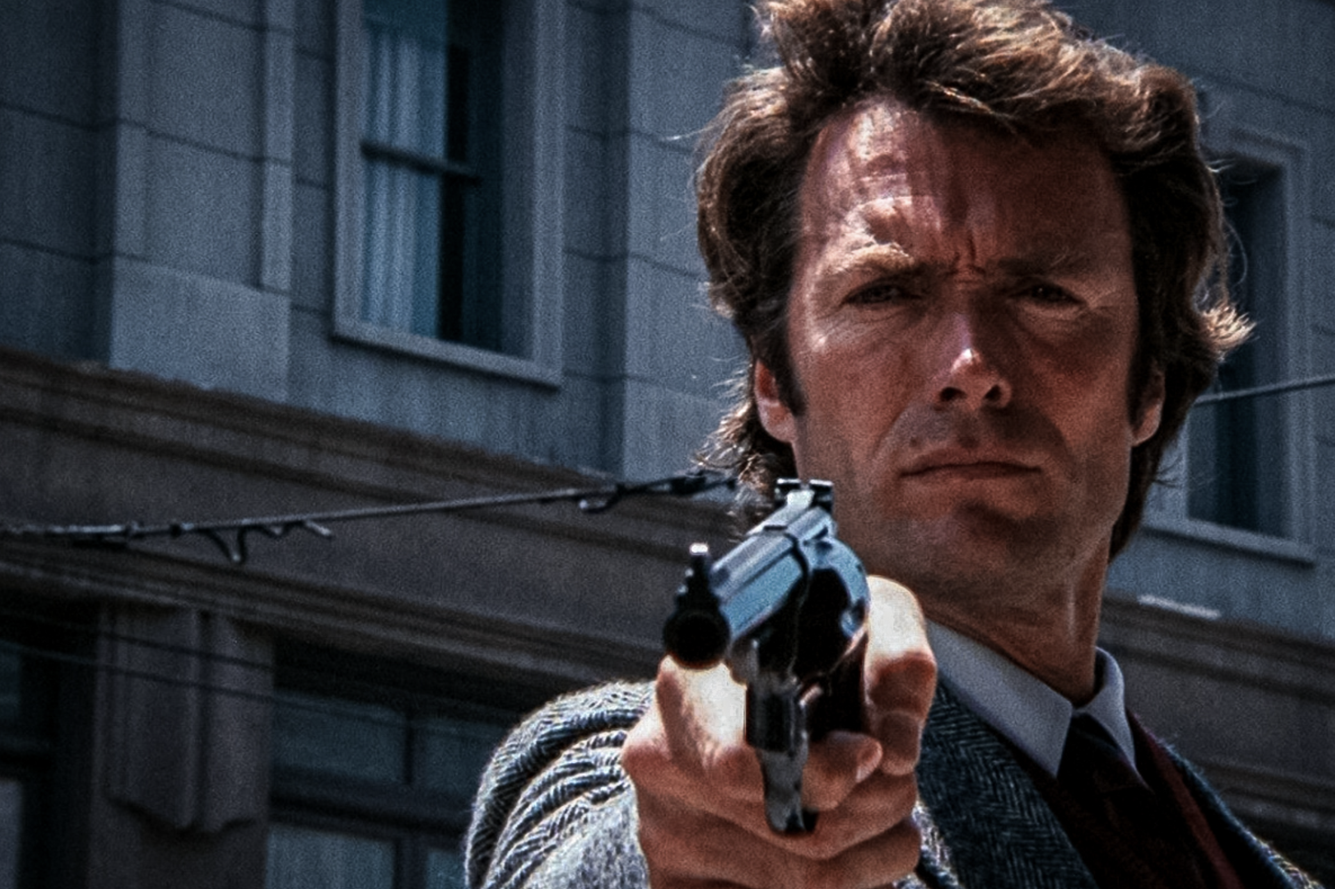gun_005: (647, 470, 878, 843)
